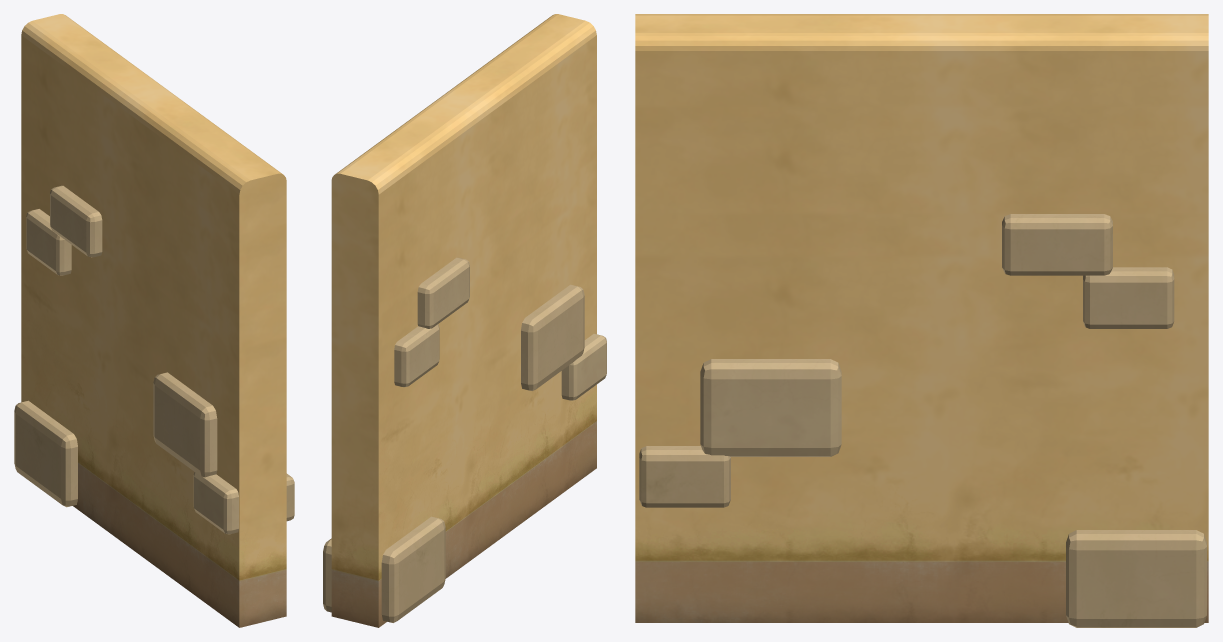
The model's file is wall_four.fbx.
The picture shows the model from 3 angles, left to right: view 1: azimuth 30°, elevation 25°; view 2: azimuth 150°, elevation 25°; view 3: azimuth 270°, elevation 25°; orthographic projection. The views are drawn at different scales.
Visible parts, largest first — view 1: Wall_3; view 2: Wall_3; view 3: Wall_3.
Part boxes in pixels (x1,y1,x2,y2): Wall_3: (14, 14, 294, 627); Wall_3: (323, 14, 606, 627); Wall_3: (635, 14, 1208, 627).
Bounding box in the file's own units: 38.14 × 225 × 200.
